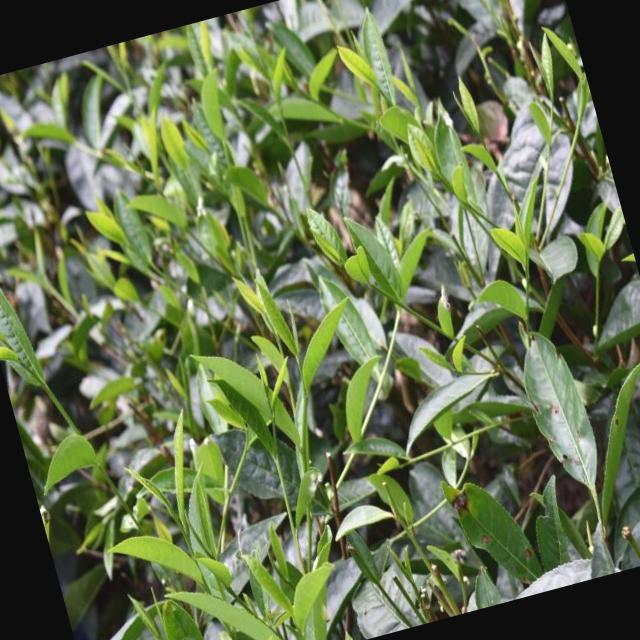Stem: (401, 303, 418, 316), (182, 530, 191, 545), (526, 275, 530, 284), (597, 266, 599, 278)
